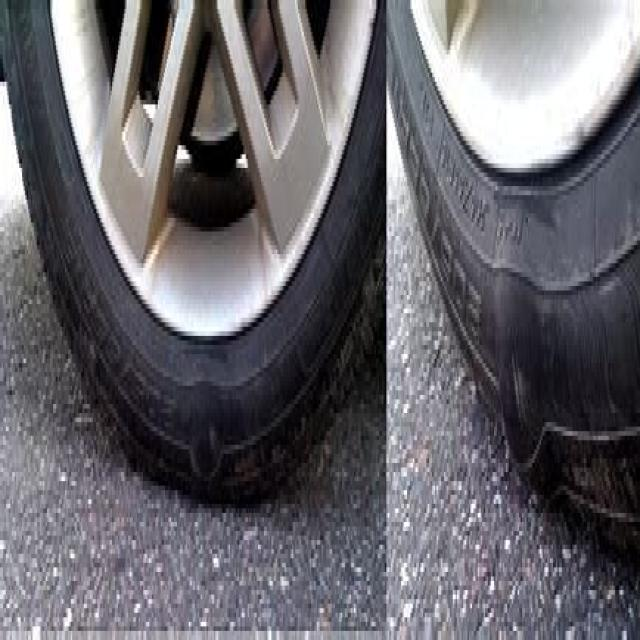Bulge: (488, 200, 558, 510)
